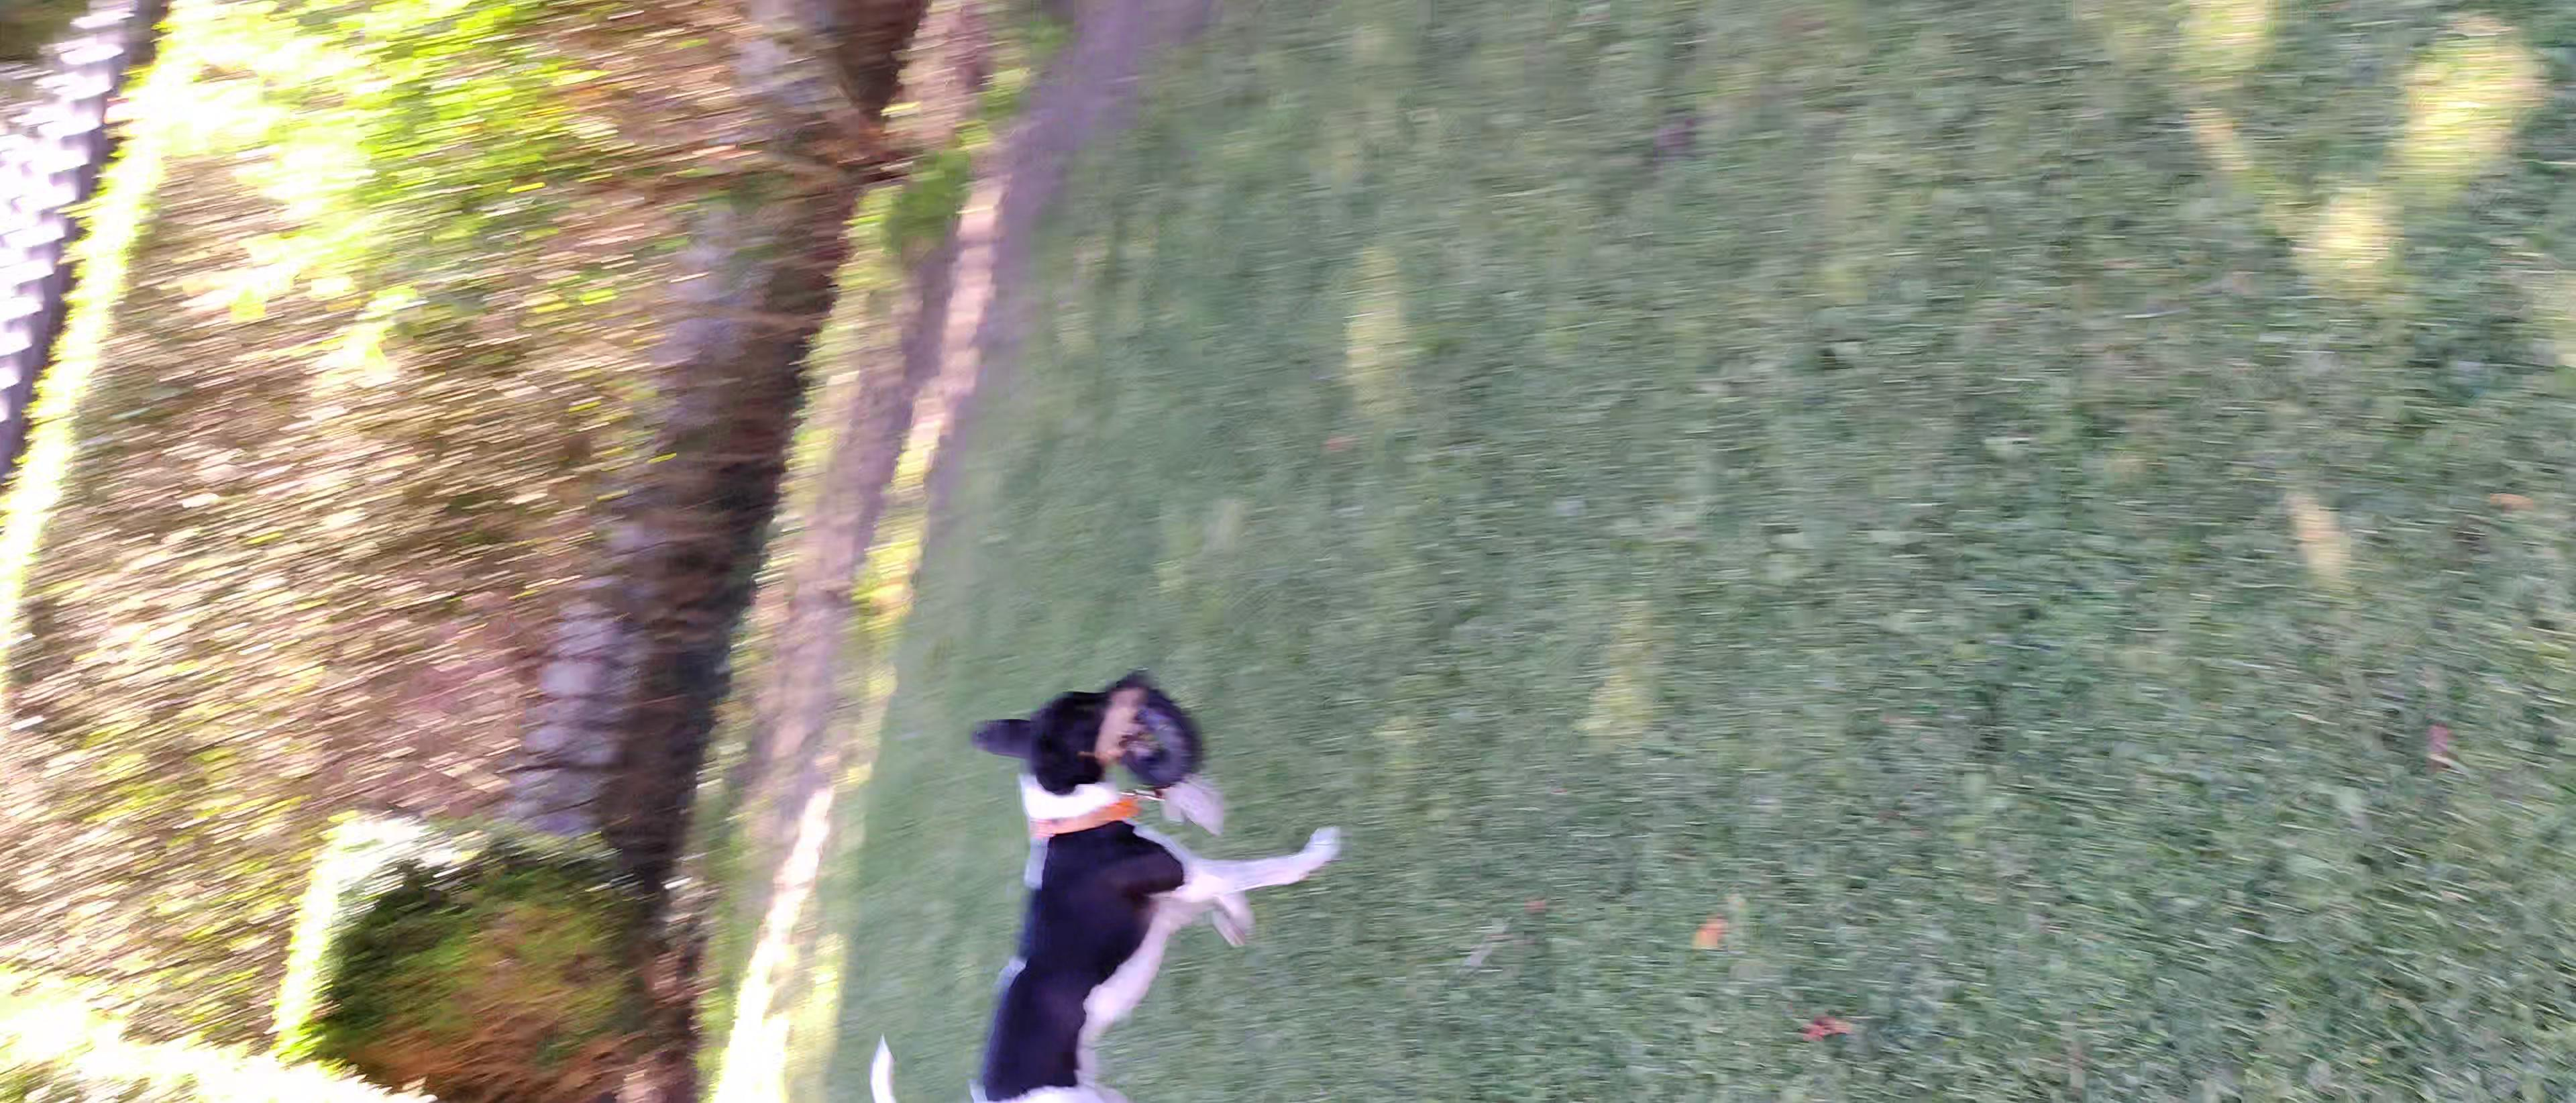Dog: (859, 661, 1347, 1103)
